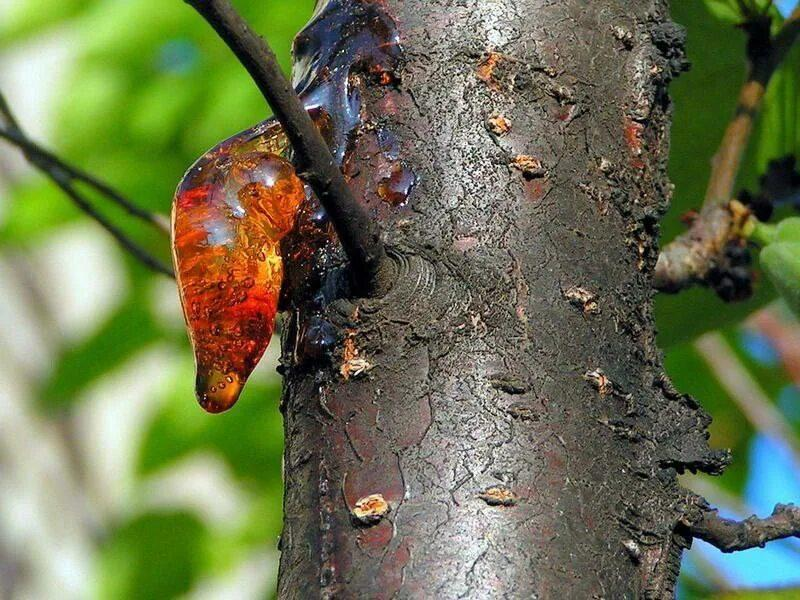gommosis: (172, 118, 307, 411), (293, 0, 398, 165)
